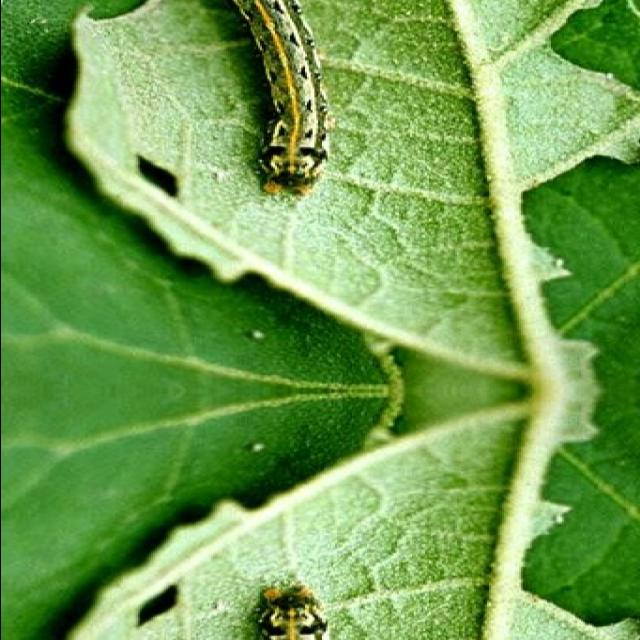Armyworm: (200, 1, 385, 213), (232, 570, 356, 640)
Armyworm_damage: (119, 151, 199, 209)
